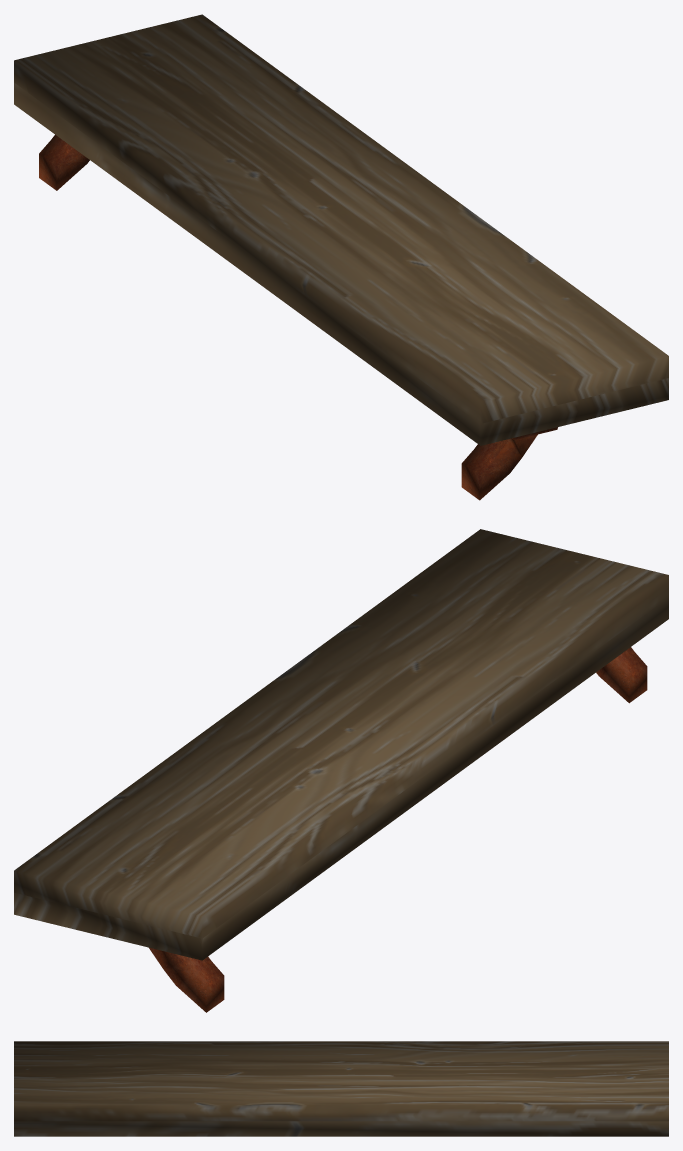
The model's file is Soporte.fbx.
The picture shows the model from 3 angles, top to bottom: view 1: azimuth 30°, elevation 25°; view 2: azimuth 150°, elevation 25°; view 3: azimuth 270°, elevation 25°; orthographic projection. The views are drawn at different scales.
Parts seen in each view (by area): view 1: Soporte_estante; view 2: Soporte_estante; view 3: Soporte_estante.
Part boxes in pixels (<box>): Soporte_estante: <box>14,14,668,500</box>; Soporte_estante: <box>14,529,668,1012</box>; Soporte_estante: <box>14,1041,668,1136</box>.
Bounding box in the file's own units: 234 × 130 × 1004.
